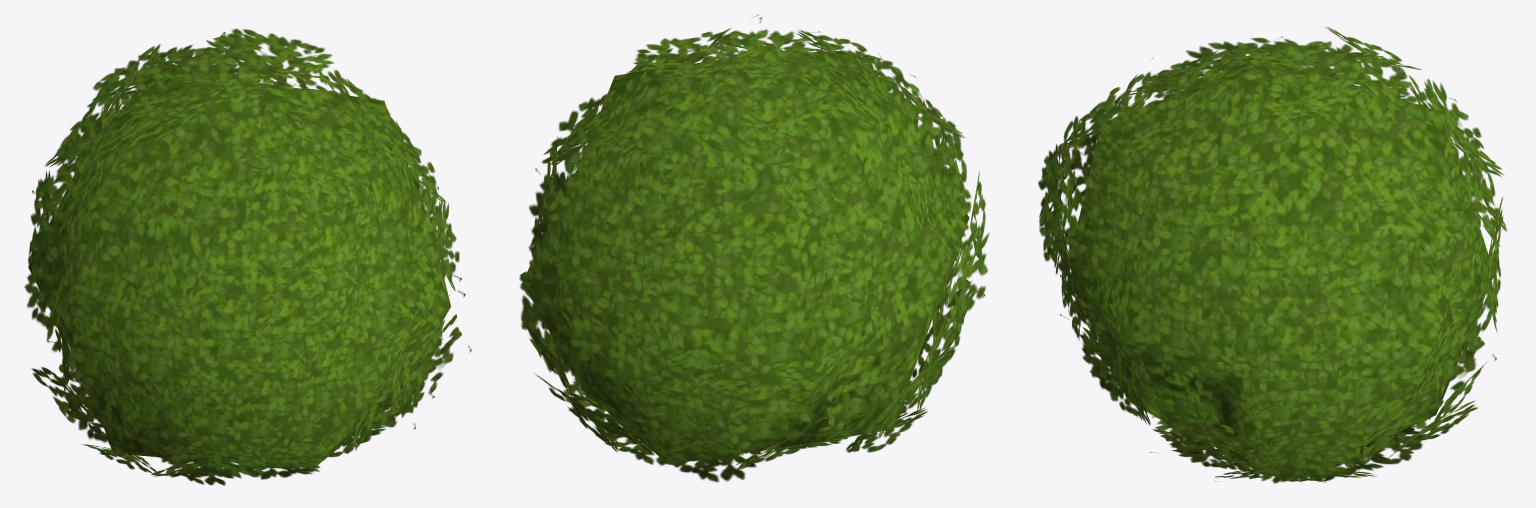
File: buxo-bola.glb
3 views of the same model, side by side, from view 1: azimuth 30°, elevation 25°; view 2: azimuth 150°, elevation 25°; view 3: azimuth 270°, elevation 25° (orthographic).
Parts seen in each view (by area): view 1: buxo-arbusto-test; view 2: buxo-arbusto-test; view 3: buxo-arbusto-test.
Part boxes in pixels (left/top/right/bottom): buxo-arbusto-test: left=24, top=28, right=471, bottom=485; buxo-arbusto-test: left=519, top=14, right=989, bottom=482; buxo-arbusto-test: left=1038, top=26, right=1506, bottom=483.
Size of the model in its own units: 0.5439 by 0.5 by 0.5794.
1 material, 1 textured.
